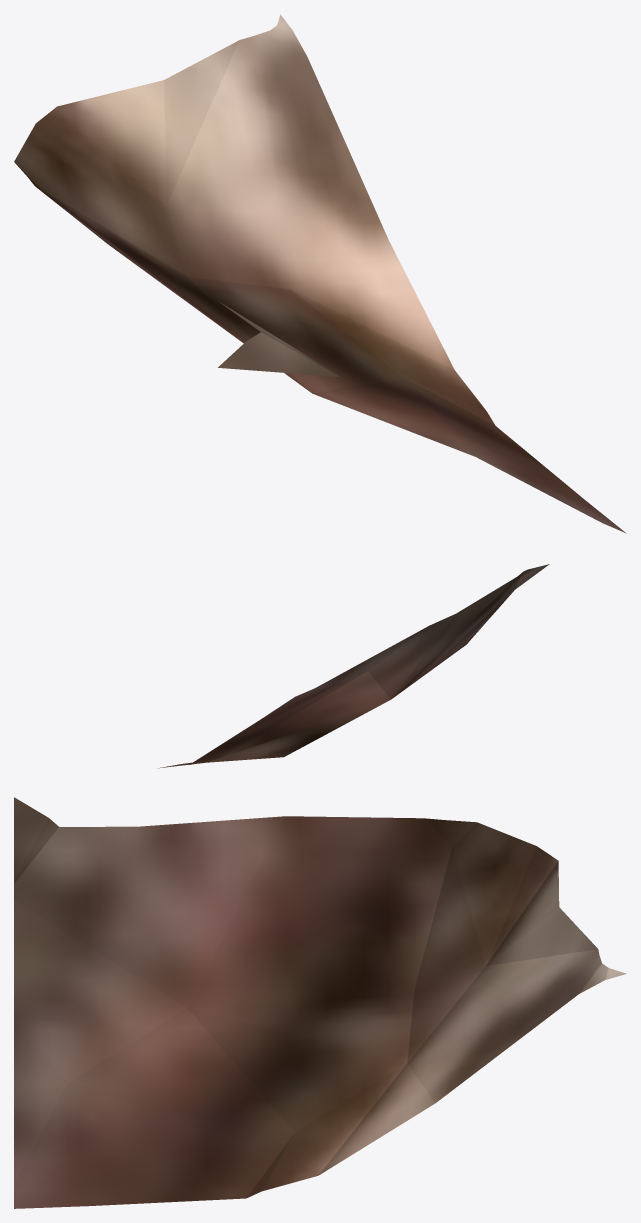
The picture shows the model from 3 angles, top to bottom: view 1: azimuth 30°, elevation 25°; view 2: azimuth 150°, elevation 25°; view 3: azimuth 270°, elevation 25°; orthographic projection. The views are drawn at different scales.
Bounding box in the file's own units: 0.1077 × 0.0668 × 0.1578.
Materials: 1 (1 with a texture image).
